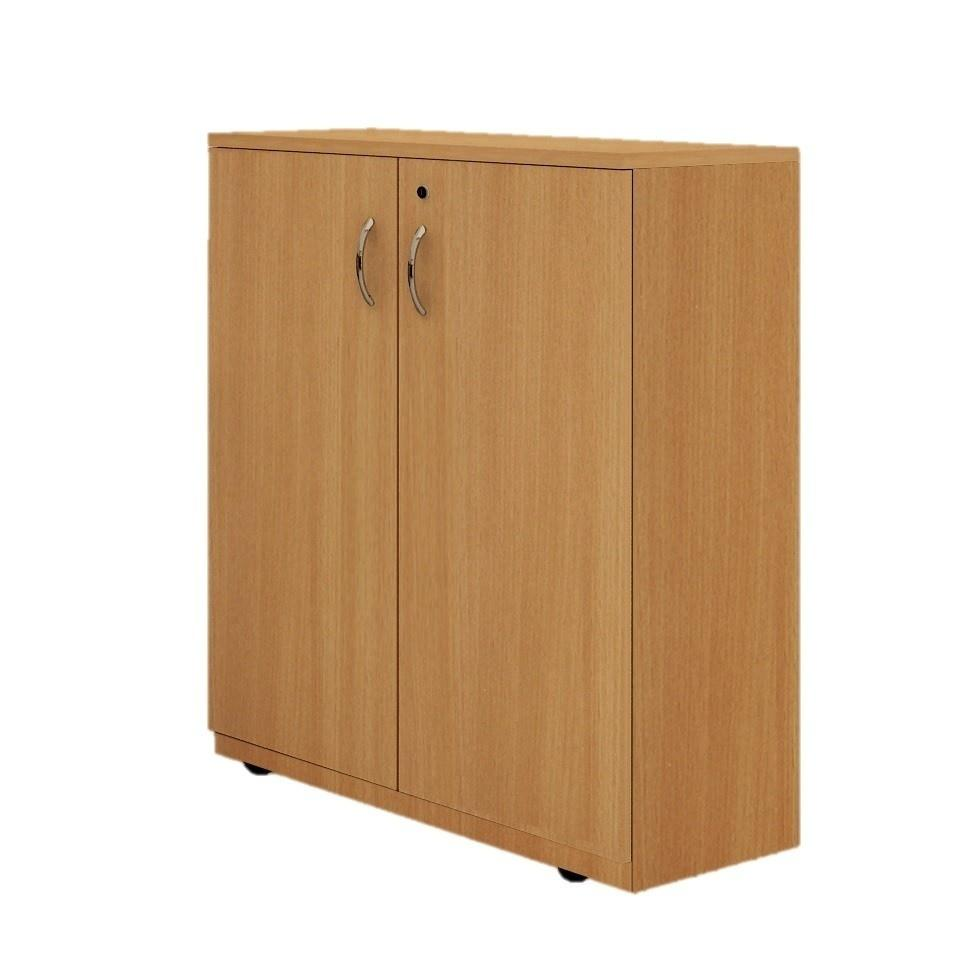cabinet_door: (394, 172, 627, 817), (208, 160, 390, 757)
handle: (350, 215, 381, 315), (406, 222, 434, 326)
